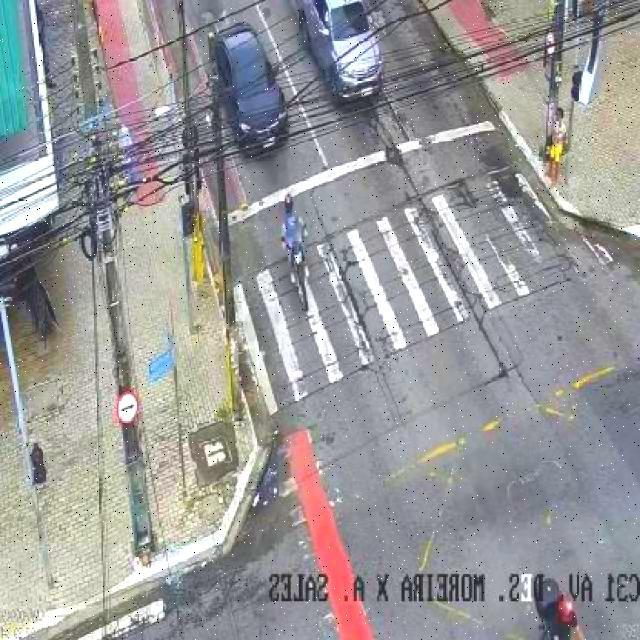Car: (210, 16, 292, 155), (296, 0, 388, 105)
Cycle: (280, 191, 313, 314)
